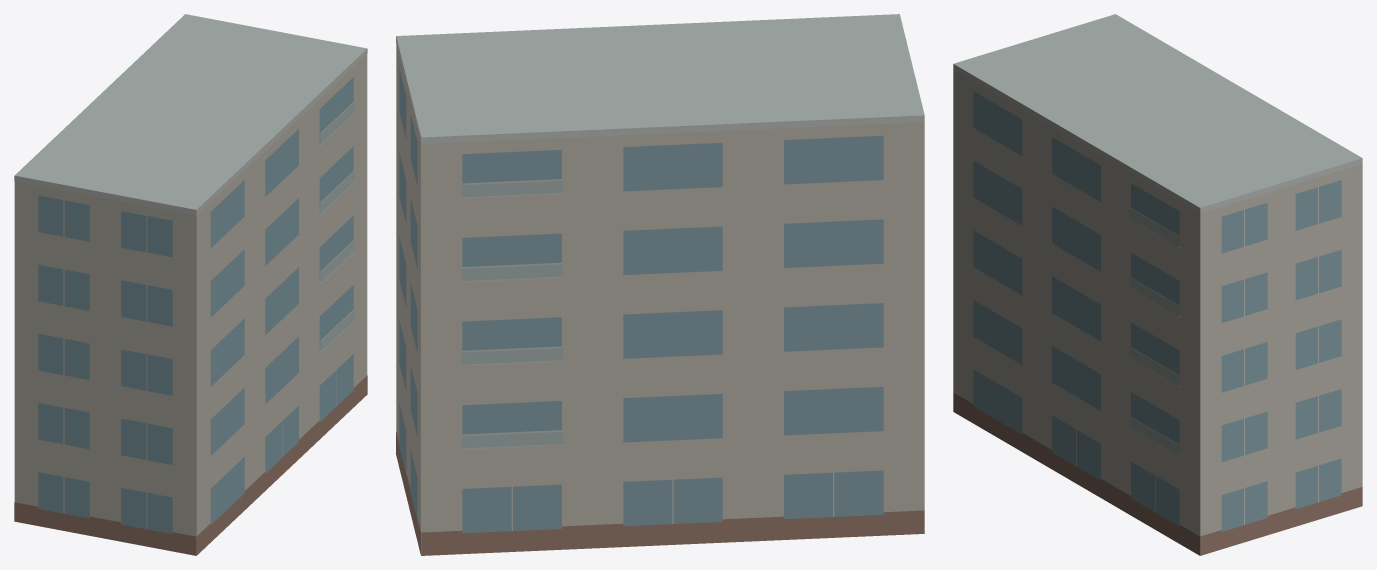
The model's file is survey-upis-32849589.glb.
The picture shows the model from 3 angles, left to right: view 1: azimuth 30°, elevation 25°; view 2: azimuth 150°, elevation 25°; view 3: azimuth 270°, elevation 25°; orthographic projection. The views are drawn at different scales.
Parts seen in each view (by area): view 1: survey-upis-32849589.tmp; view 2: survey-upis-32849589.tmp; view 3: survey-upis-32849589.tmp.
Boxes of the visible parts, x1,y1,x2,y2 form: survey-upis-32849589.tmp: [14, 14, 367, 555]; survey-upis-32849589.tmp: [396, 14, 924, 555]; survey-upis-32849589.tmp: [953, 14, 1362, 555].
Bounding box in the file's own units: 17.93 × 15 × 16.
